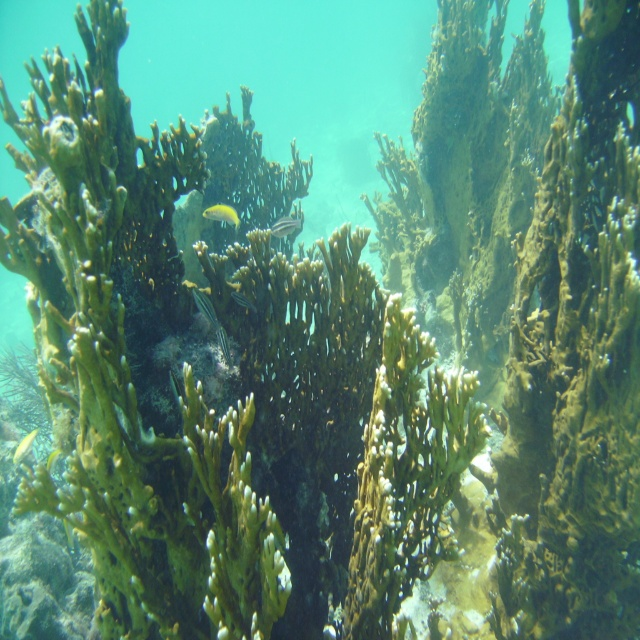Fish: (202, 202, 242, 230), (192, 290, 218, 331), (217, 327, 237, 373), (13, 431, 37, 464), (270, 217, 302, 239), (232, 292, 256, 311), (170, 372, 182, 397)
